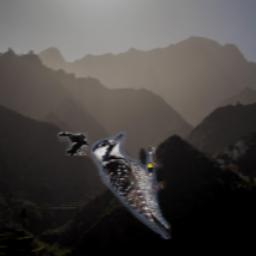Crow: (59, 132, 89, 156)
Woodpecker: (92, 132, 172, 239)
